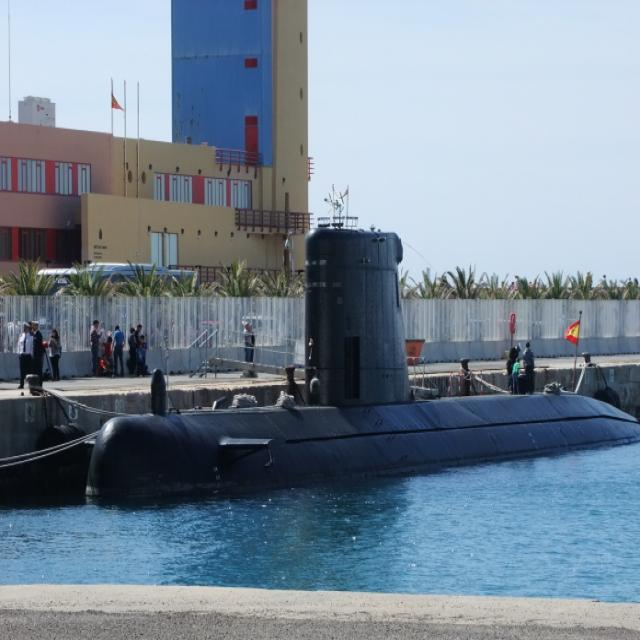submarine: (86, 227, 640, 508)
